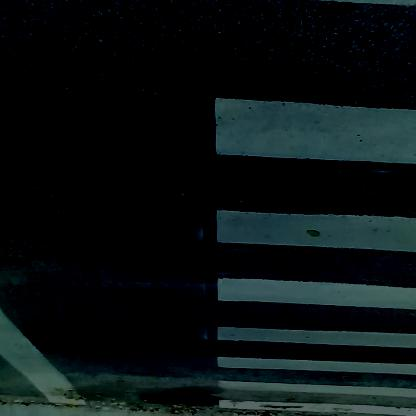crosswalk: (214, 67, 416, 410)
